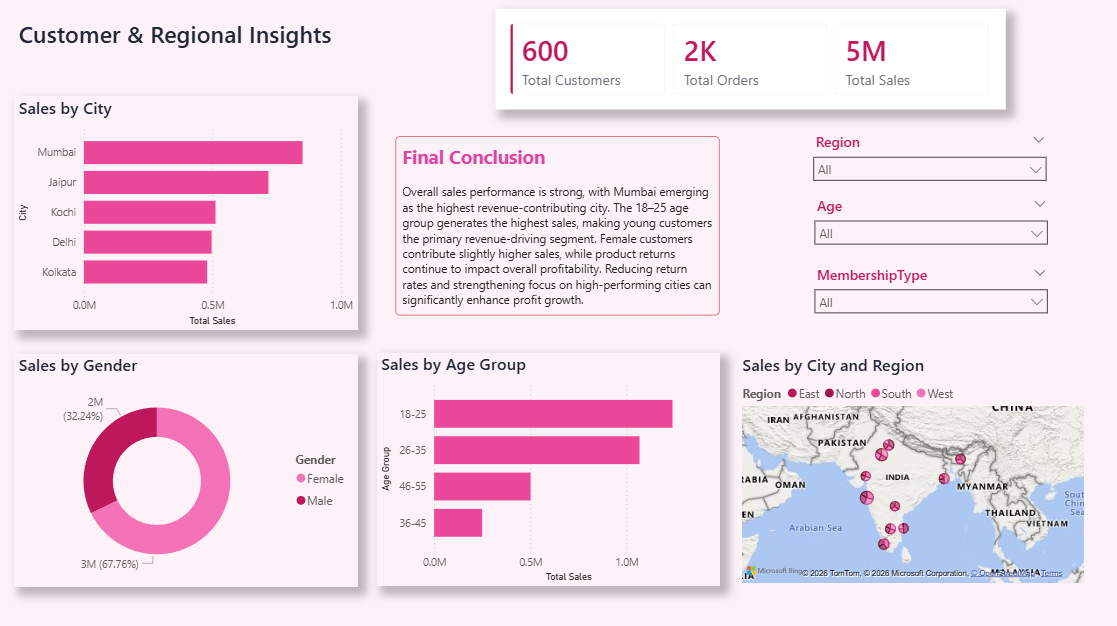

What the dashboard file says about the page in this screenshot:
{"tool":"powerbi","page":{"name":"Customer & Regional Insights","canvas":[1280,720],"ordinal":2},"visuals":[{"type":"textbox","box":[19.2,15.1,376,52.1],"z":0},{"type":"cardVisual","fields":{"Data":["Measure_Table.Total Customers","Measure_Table.Total Orders","Measure_Table.Total Sales"]},"box":[568.1,9.6,583.2,115.3],"z":1000},{"type":"donutChart","title":"Sales by Gender","fields":{"Category":["Nykaa_Customers.Gender"],"Y":["Measure_Table.Total Sales"]},"box":[19.2,404.8,392.5,266.2],"z":2000},{"type":"clusteredBarChart","title":"Sales by City","fields":{"Y":["Measure_Table.Total Sales"],"Category":["Nykaa_Customers.City"]},"box":[19.2,109.8,392.5,267.6],"z":3000},{"type":"slicer","fields":{"Values":["Nykaa_Customers.Region"]},"box":[922.1,145.5,286.8,78.2],"z":4000},{"type":"textbox","box":[454.2,155.1,370.5,204.5],"z":5000},{"type":"clusteredBarChart","title":"Sales by Age Group","fields":{"Category":["Nykaa_Customers.Age Group"],"Y":["Measure_Table.Total Sales"]},"box":[432.2,403.4,392.5,267.6],"z":6000},{"type":"slicer","fields":{"Values":["Nykaa_Customers.Age"]},"box":[923.5,218.2,286.8,79.6],"z":7000},{"type":"map","title":"Sales by City and Region","fields":{"Size":["Measure_Table.Total Sales"],"Series":["Nykaa_Customers.Region"],"Category":["Nykaa_Customers.City"]},"box":[845.3,404.8,400.7,267.6],"z":8000},{"type":"slicer","fields":{"Values":["Nykaa_Customers.MembershipType"]},"box":[923.5,297.8,286.8,79.6],"z":9000}]}

Visuals, with their boxes in screenshot pixels (x1, y1, x2, y2), scaled from the page's 1280x720 canvas onto the 1117x626 screenshot:
textbox: (x1=17, y1=13, x2=345, y2=58)
cardVisual - Measure_Table.Total Customers x Measure_Table.Total Orders: (x1=496, y1=8, x2=1005, y2=109)
"Sales by Gender" donutChart: (x1=17, y1=352, x2=359, y2=583)
"Sales by City" clusteredBarChart: (x1=17, y1=95, x2=359, y2=328)
slicer - Nykaa_Customers.Region: (x1=805, y1=127, x2=1055, y2=194)
textbox: (x1=396, y1=135, x2=720, y2=313)
"Sales by Age Group" clusteredBarChart: (x1=377, y1=351, x2=720, y2=583)
slicer - Nykaa_Customers.Age: (x1=806, y1=190, x2=1056, y2=259)
"Sales by City and Region" map: (x1=738, y1=352, x2=1087, y2=585)
slicer - Nykaa_Customers.MembershipType: (x1=806, y1=259, x2=1056, y2=328)
